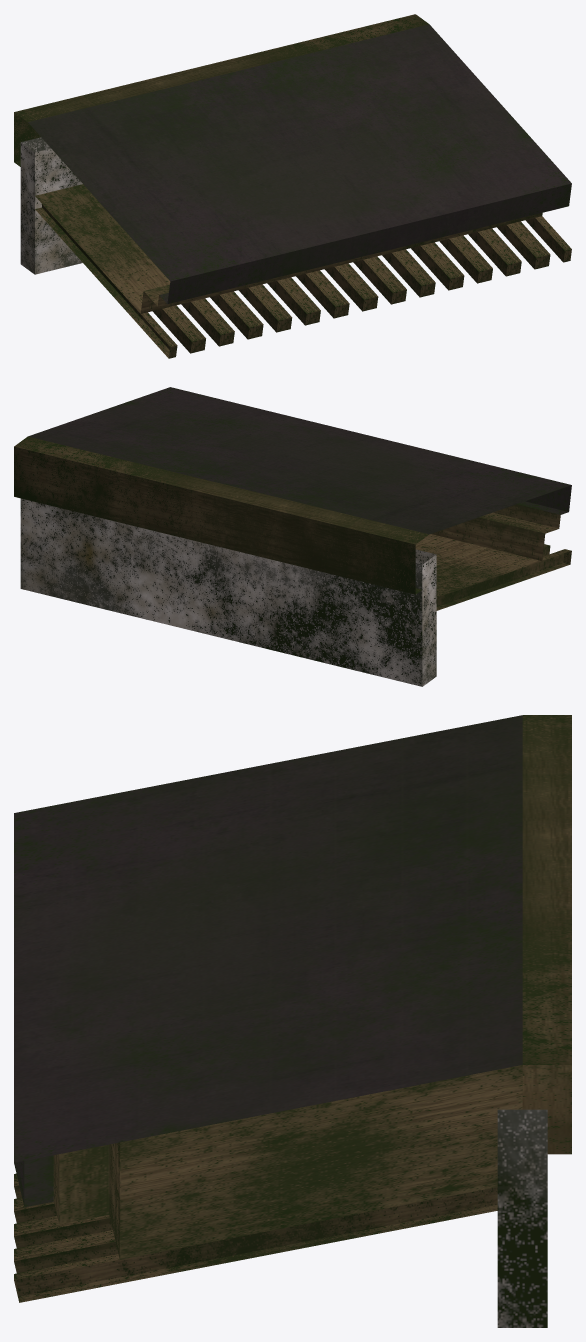
The model's file is shrine_roof_10.fbx.
3 views of the same model, one above another, from view 1: azimuth 30°, elevation 25°; view 2: azimuth 150°, elevation 25°; view 3: azimuth 270°, elevation 25° (orthographic). The views are drawn at different scales.
Parts seen in each view (by area): view 1: shrine_roof_10; view 2: shrine_roof_10; view 3: shrine_roof_10.
Boxes of the visible parts, x1,y1,x2,y2 form: shrine_roof_10: [14, 14, 571, 358]; shrine_roof_10: [14, 387, 571, 686]; shrine_roof_10: [14, 715, 571, 1327].
Size of the model in its own units: 330 by 116 by 222.
Materials: 1 (1 with a texture image).
